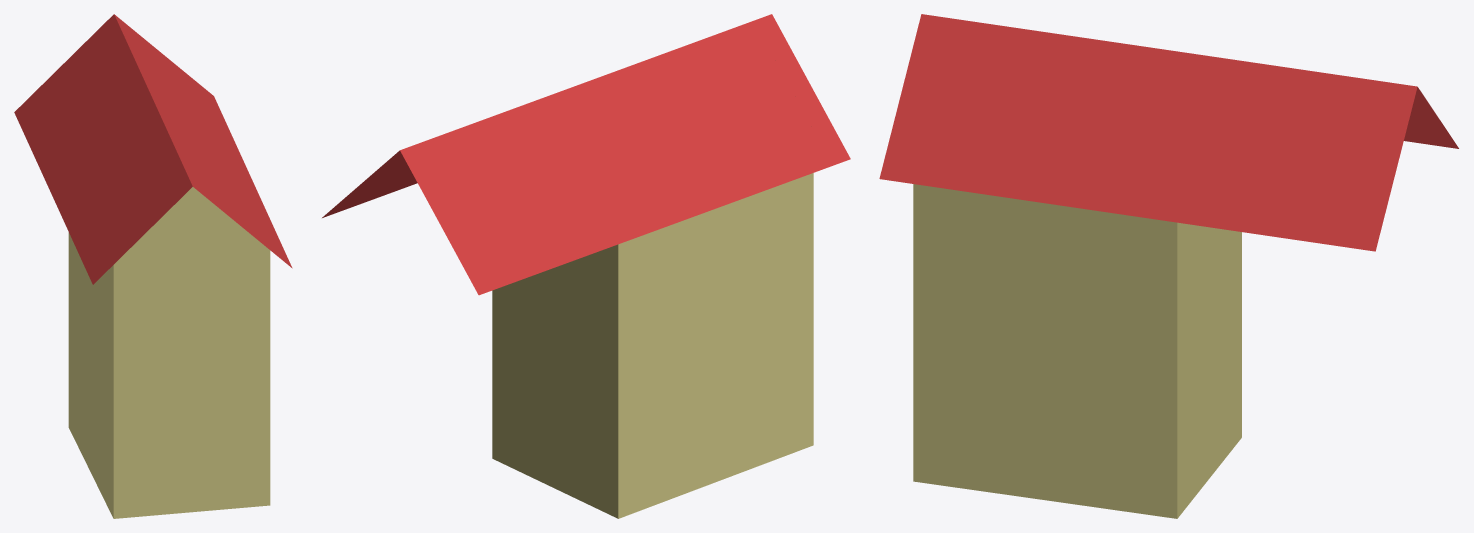
The picture shows the model from 3 angles, left to right: view 1: azimuth 30°, elevation 25°; view 2: azimuth 150°, elevation 25°; view 3: azimuth 270°, elevation 25°; orthographic projection. The views are drawn at different scales.
Size of the model in its own units: 7.51 by 10.52 by 8.45.
